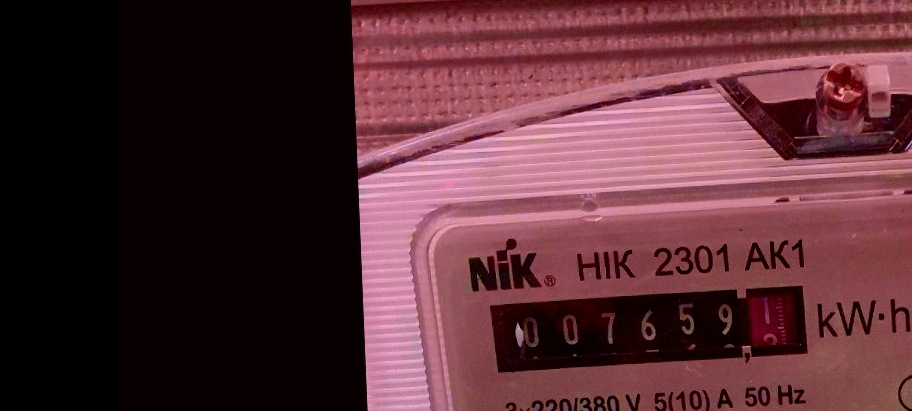0: (559, 310, 583, 348), (520, 311, 542, 351)
1: (758, 291, 775, 327)
5: (676, 299, 698, 337)
6: (637, 306, 660, 342)
7: (597, 307, 619, 346)
9: (714, 299, 737, 337)
screen: (481, 278, 818, 381)
